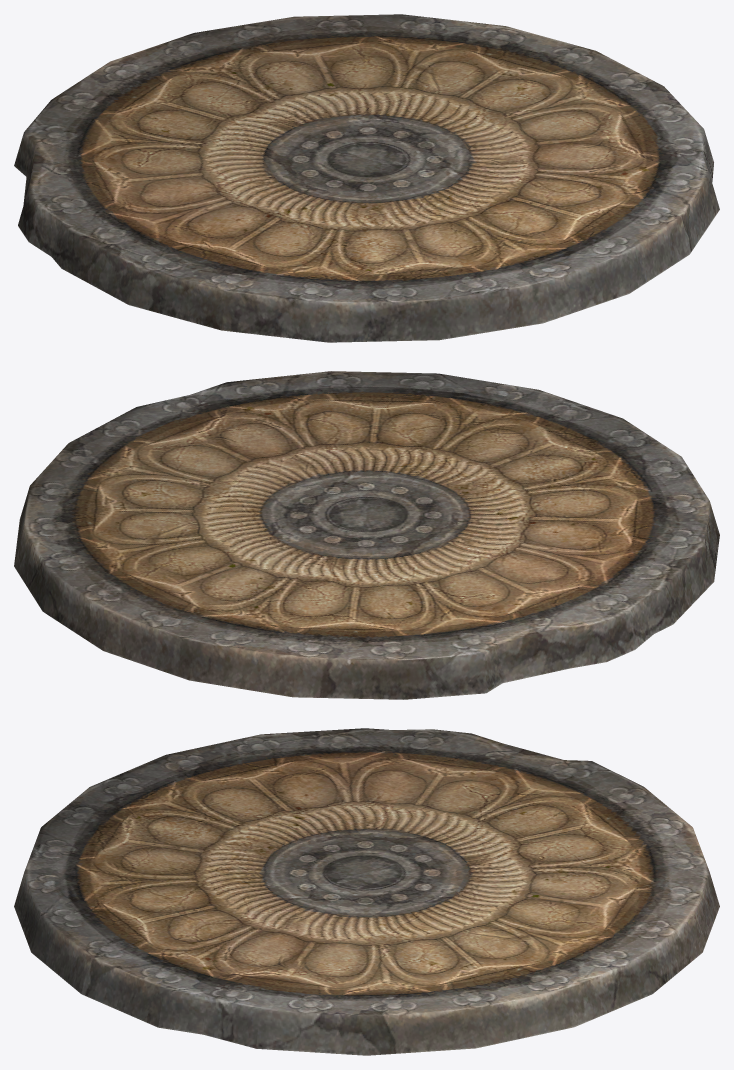
The model's file is bg_anh_gvalley_gd01_sm_old.FBX.
The picture shows the model from 3 angles, top to bottom: view 1: azimuth 30°, elevation 25°; view 2: azimuth 150°, elevation 25°; view 3: azimuth 270°, elevation 25°; orthographic projection.
Visible parts, largest first — view 1: bg_anh_gvalley_gd01_sm_old; view 2: bg_anh_gvalley_gd01_sm_old; view 3: bg_anh_gvalley_gd01_sm_old.
Boxes of the visible parts, bbox=[...] form: bg_anh_gvalley_gd01_sm_old: bbox=[14, 14, 719, 342]; bg_anh_gvalley_gd01_sm_old: bbox=[14, 371, 719, 699]; bg_anh_gvalley_gd01_sm_old: bbox=[14, 728, 719, 1055].
Size of the model in its own units: 269 by 14.52 by 270.
